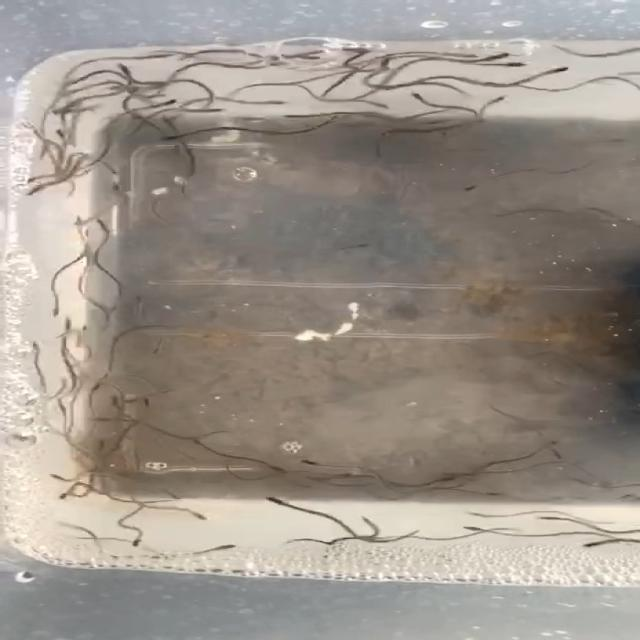inactive_glass_eel: (256, 496, 296, 511), (86, 414, 126, 428), (338, 42, 369, 60), (294, 451, 321, 470), (8, 176, 52, 187), (51, 320, 78, 337), (101, 394, 128, 411), (455, 522, 486, 536), (142, 50, 181, 61), (160, 97, 188, 112), (482, 95, 514, 108), (152, 134, 193, 144), (50, 488, 78, 502), (537, 512, 565, 526), (430, 475, 465, 486), (462, 182, 486, 198), (484, 486, 509, 501), (369, 101, 400, 113), (262, 96, 293, 108), (38, 471, 75, 481), (209, 542, 239, 554), (303, 50, 325, 66), (408, 85, 428, 102), (138, 396, 158, 413), (571, 538, 605, 548), (124, 85, 150, 98), (51, 126, 77, 139), (94, 214, 115, 230), (132, 536, 156, 550), (17, 338, 39, 353), (471, 51, 512, 59), (46, 108, 82, 117), (196, 107, 232, 116), (612, 492, 640, 503), (280, 111, 310, 121), (48, 400, 68, 415), (118, 61, 136, 77), (22, 188, 48, 199), (508, 60, 533, 71), (69, 214, 86, 230), (191, 508, 207, 525), (47, 305, 67, 318), (549, 451, 570, 463), (462, 511, 489, 520), (98, 85, 128, 92), (558, 66, 573, 76)
